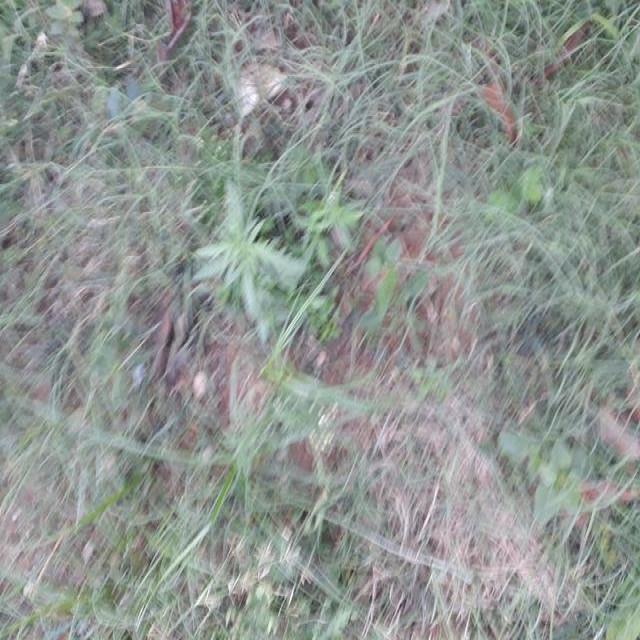weed: (48, 399, 364, 640), (202, 191, 316, 334), (515, 408, 592, 533), (510, 127, 554, 281), (312, 172, 373, 256), (373, 234, 410, 326)
